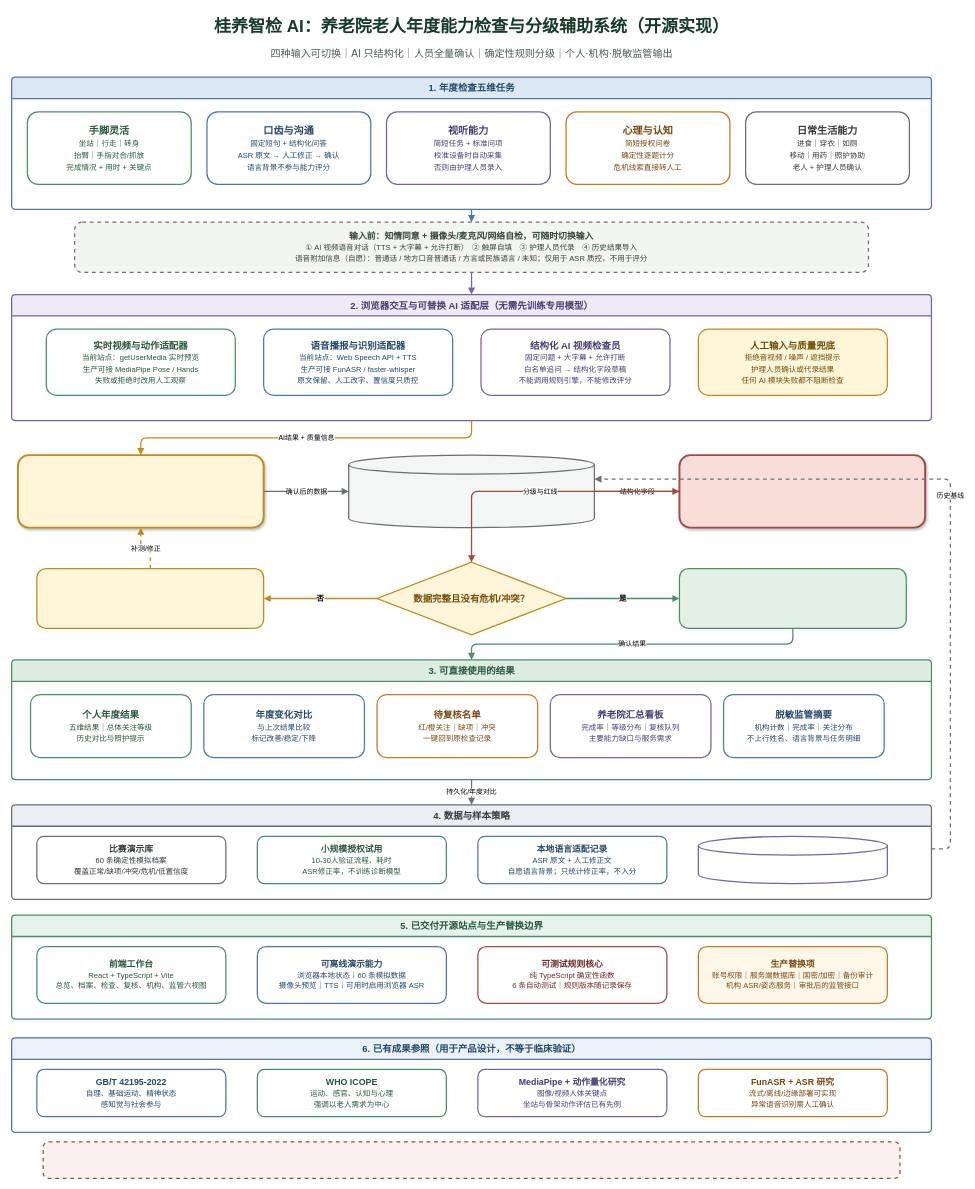
This 975x1189 diagram has some shape labels left out. Each missing label, with the centre of its shape:
数据存储 演示：浏览器 localStorage 生产：SQLite/PostgreSQL + 加密 + 审计日志: (792,859)
最小合规边界：辅助检查非医疗诊断｜未获同意不得评分｜可跳过音视频｜大模型不改等级｜原始音视频默认不保存｜危机/冲突/缺项转人工｜监管只输出脱敏聚合摘要: (471,1160)
检查/复核人员确认 确认规则建议或人工处置结论 记录人员、时间与说明，形成审计留痕: (793,598)
知情同意 + 数据质量 + 人工确认门 检查授权、缺项、噪声、遮挡、设备与置信度 原文 → 人工修正 → 复述确认；未获同意或未确认不评分: (141,492)
确定性分级规则引擎（非 LLM） 五维 0/1/2/3 档｜总体取最高关注档 缺项拒判｜危机停算｜冲突复核｜版本可回放: (803,492)
结构化年度检查记录 五维逐项记录｜确认文本｜缺项｜质量提醒 语言背景仅质控｜检查员｜规则版本｜历史结果: (471,491)
补测或人工复核 重做任务｜改用手工录入 危机线索交护理/专业人员: (150,598)
